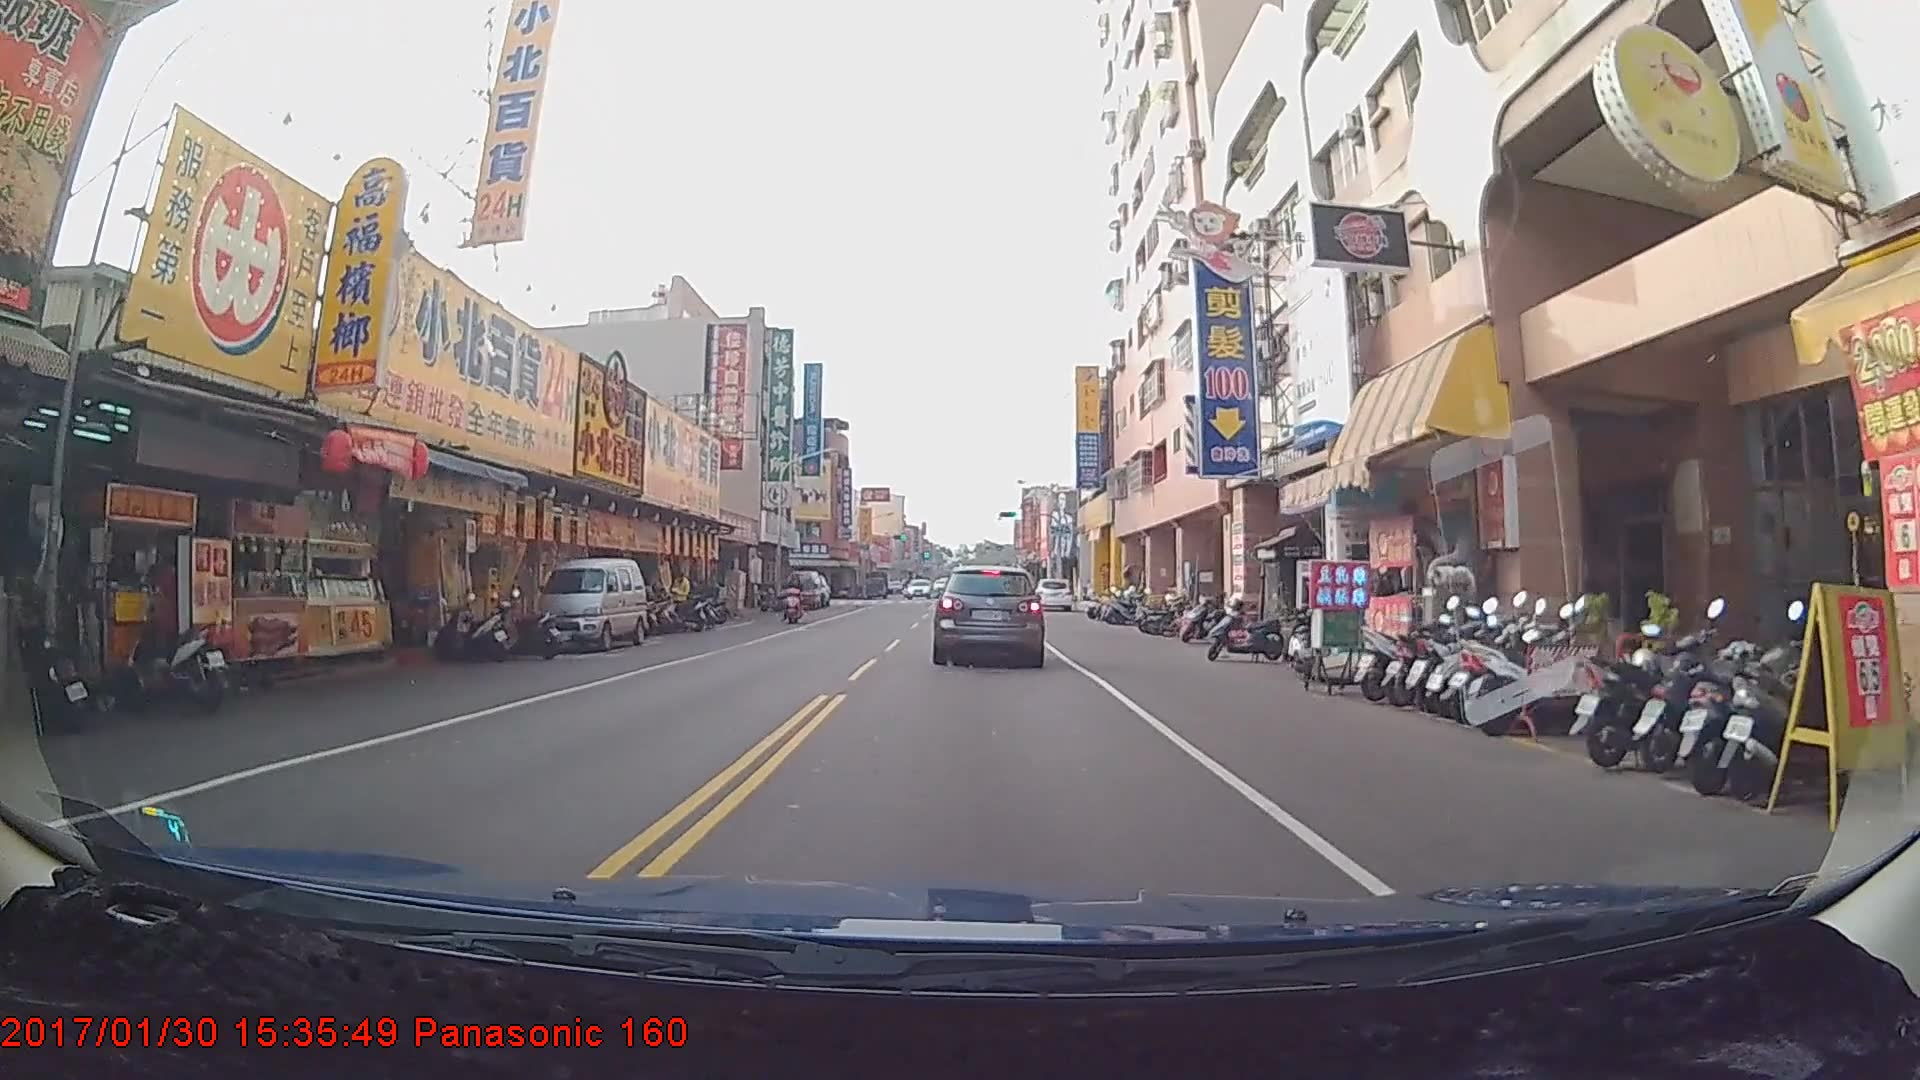pedestrian: (666, 571, 692, 627)
rider: (786, 572, 812, 627)
vehicle: (933, 565, 1044, 667), (529, 559, 646, 652), (785, 570, 822, 611), (1034, 578, 1072, 613)
